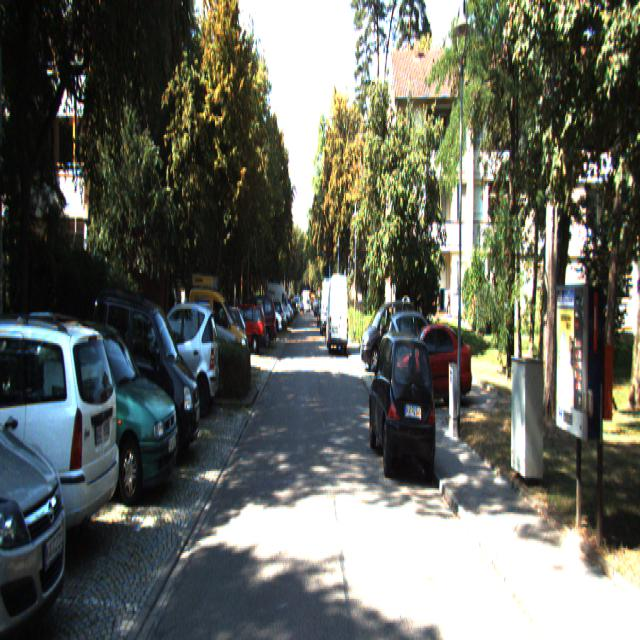Car: (0, 307, 123, 567), (33, 313, 181, 504), (0, 323, 74, 638), (87, 294, 200, 470), (368, 328, 438, 484), (140, 300, 220, 420), (392, 321, 473, 408), (187, 264, 250, 371), (361, 299, 418, 372), (220, 304, 266, 355), (236, 293, 276, 349), (326, 273, 348, 350), (320, 278, 336, 336)
